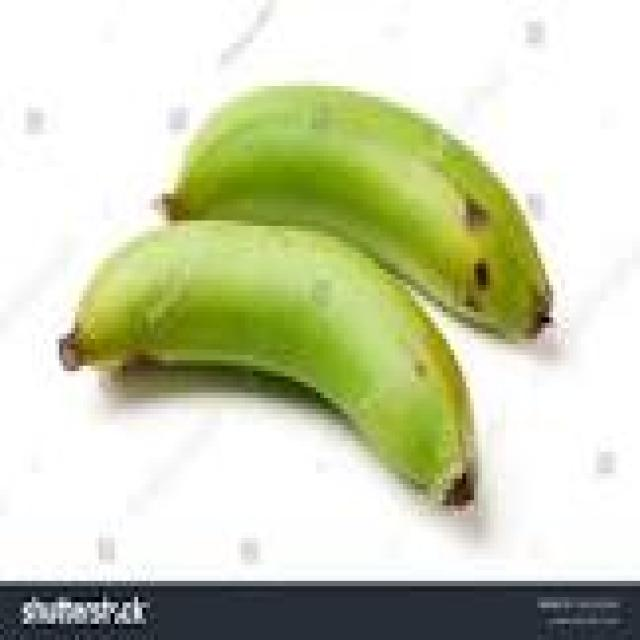banana: (60, 221, 474, 505), (166, 87, 553, 338)
